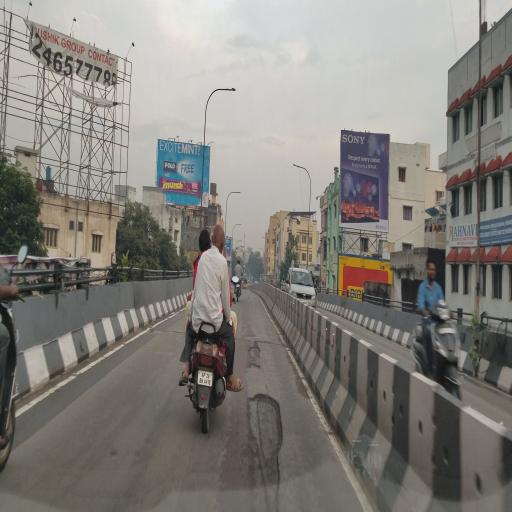street_light_0: (205, 83, 239, 114), (220, 173, 245, 209), (290, 146, 312, 180), (230, 215, 244, 239)
